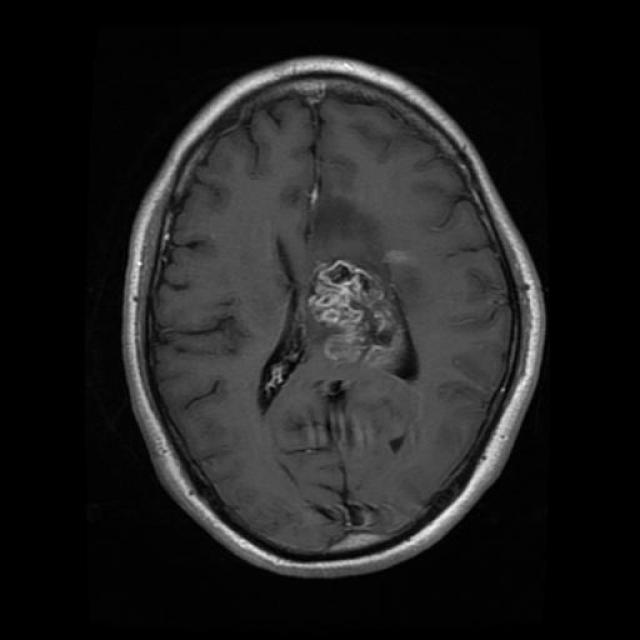Brain-Tumor: (304, 252, 424, 374)
